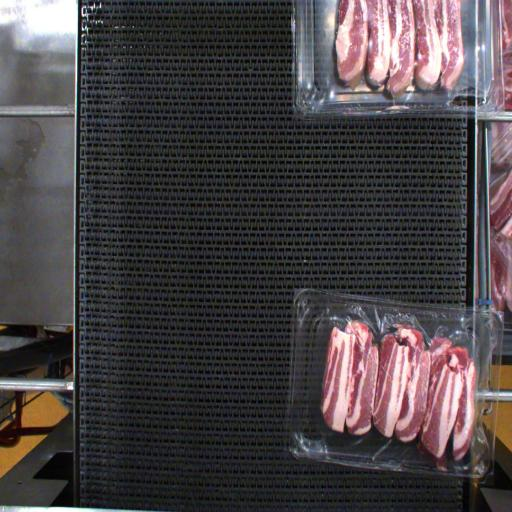unsealed: (303, 292, 494, 468)
